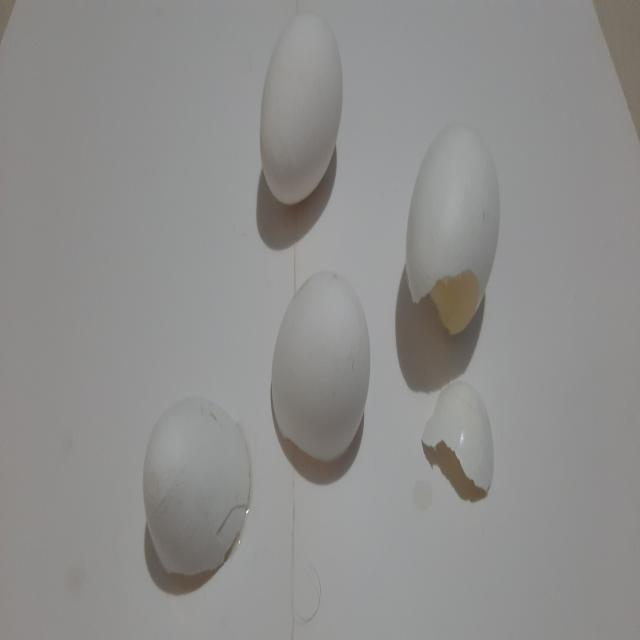egg shell: (140, 263, 378, 590), (401, 104, 504, 353), (137, 390, 255, 590), (268, 264, 376, 474), (256, 0, 347, 217), (417, 368, 500, 505)
